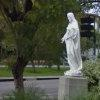Statue: (53, 6, 99, 87)
